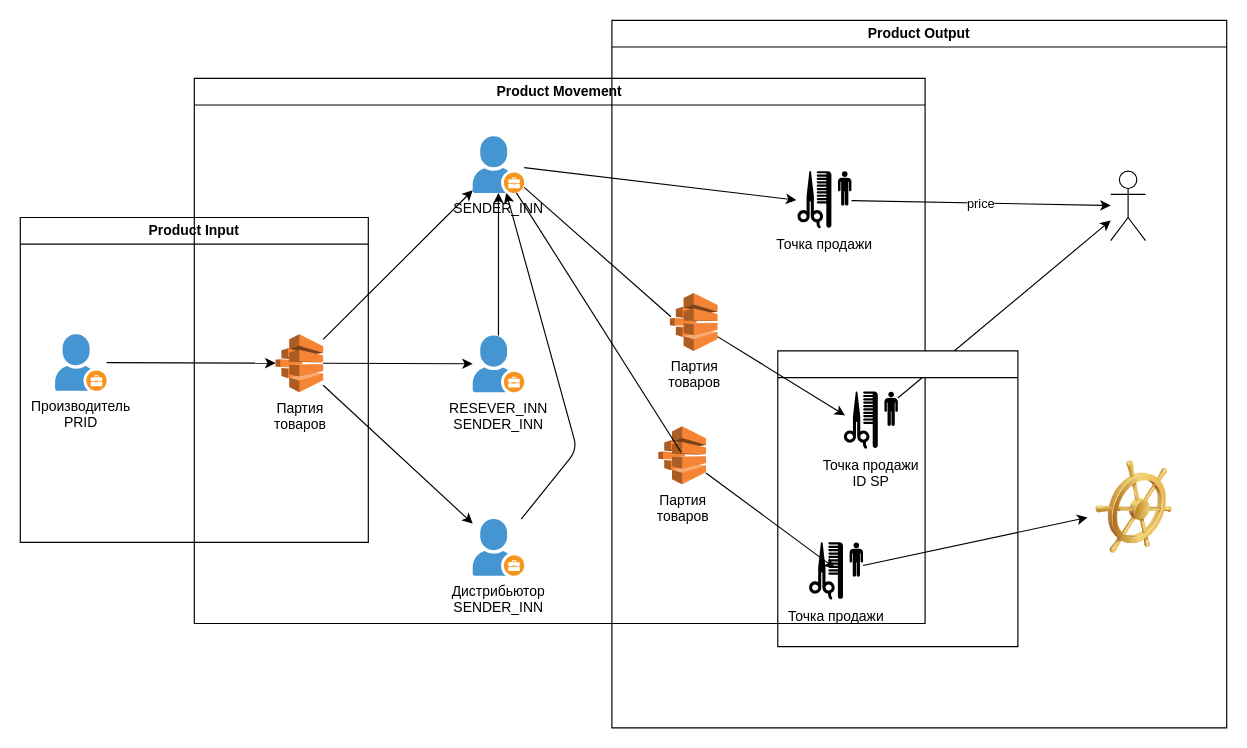
Some shapes in this 1247 by 748 pixel diagram are drawn without their labels. The shapes that lost their labels are listed below. From the top down, each one's box as (x1, y1, x2, y2) in pixels, then its label:
(1110, 170, 1146, 241): Потребитель
(777, 350, 1018, 647): Организация
(1087, 461, 1180, 553): Списание товара
